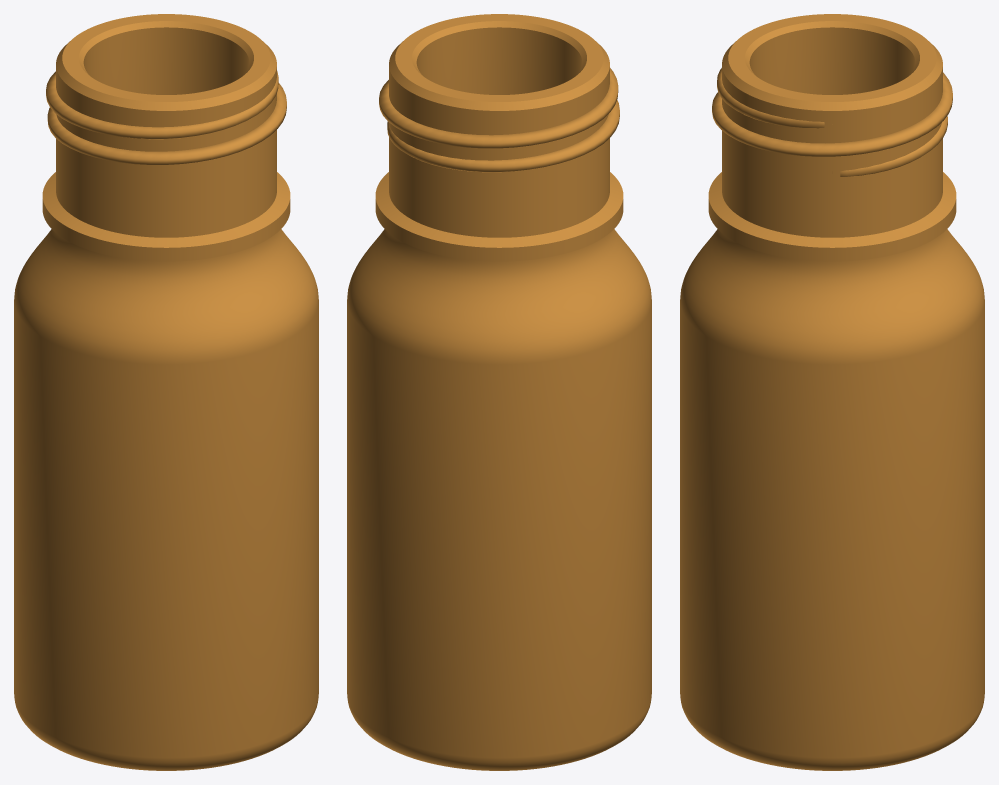
Rendered from neck_PP18.glb.
3 views of the same model, side by side, from view 1: azimuth 30°, elevation 25°; view 2: azimuth 150°, elevation 25°; view 3: azimuth 270°, elevation 25° (orthographic).
Visible parts, largest first — view 1: Bottle_010ml; view 2: Bottle_010ml; view 3: Bottle_010ml.
Boxes of the visible parts, x1=… form: Bottle_010ml: x1=14, y1=14, x2=318, y2=770; Bottle_010ml: x1=347, y1=14, x2=651, y2=770; Bottle_010ml: x1=680, y1=14, x2=984, y2=770.
Bounding box in the file's own units: 0.022 × 0.0523 × 0.022.
